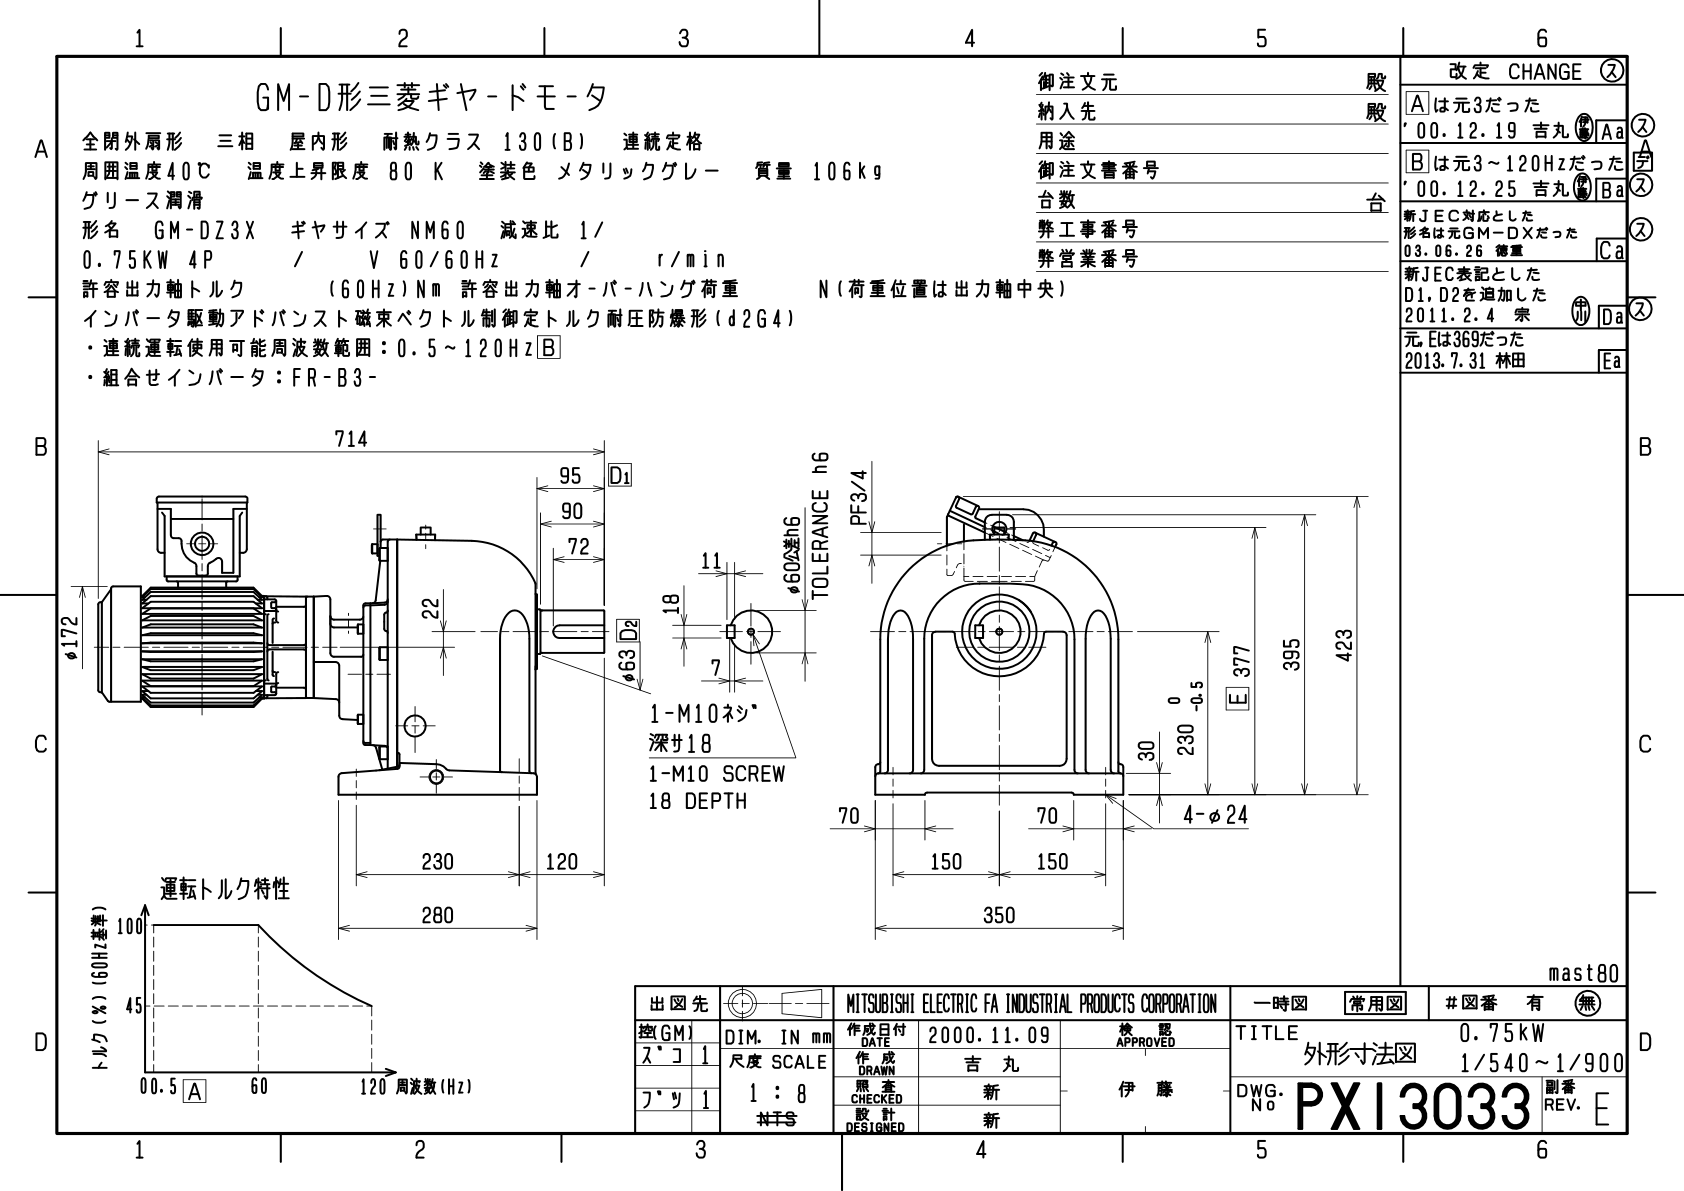GM_D_制御屋内_三相_脚: (54, 421, 1386, 971)
